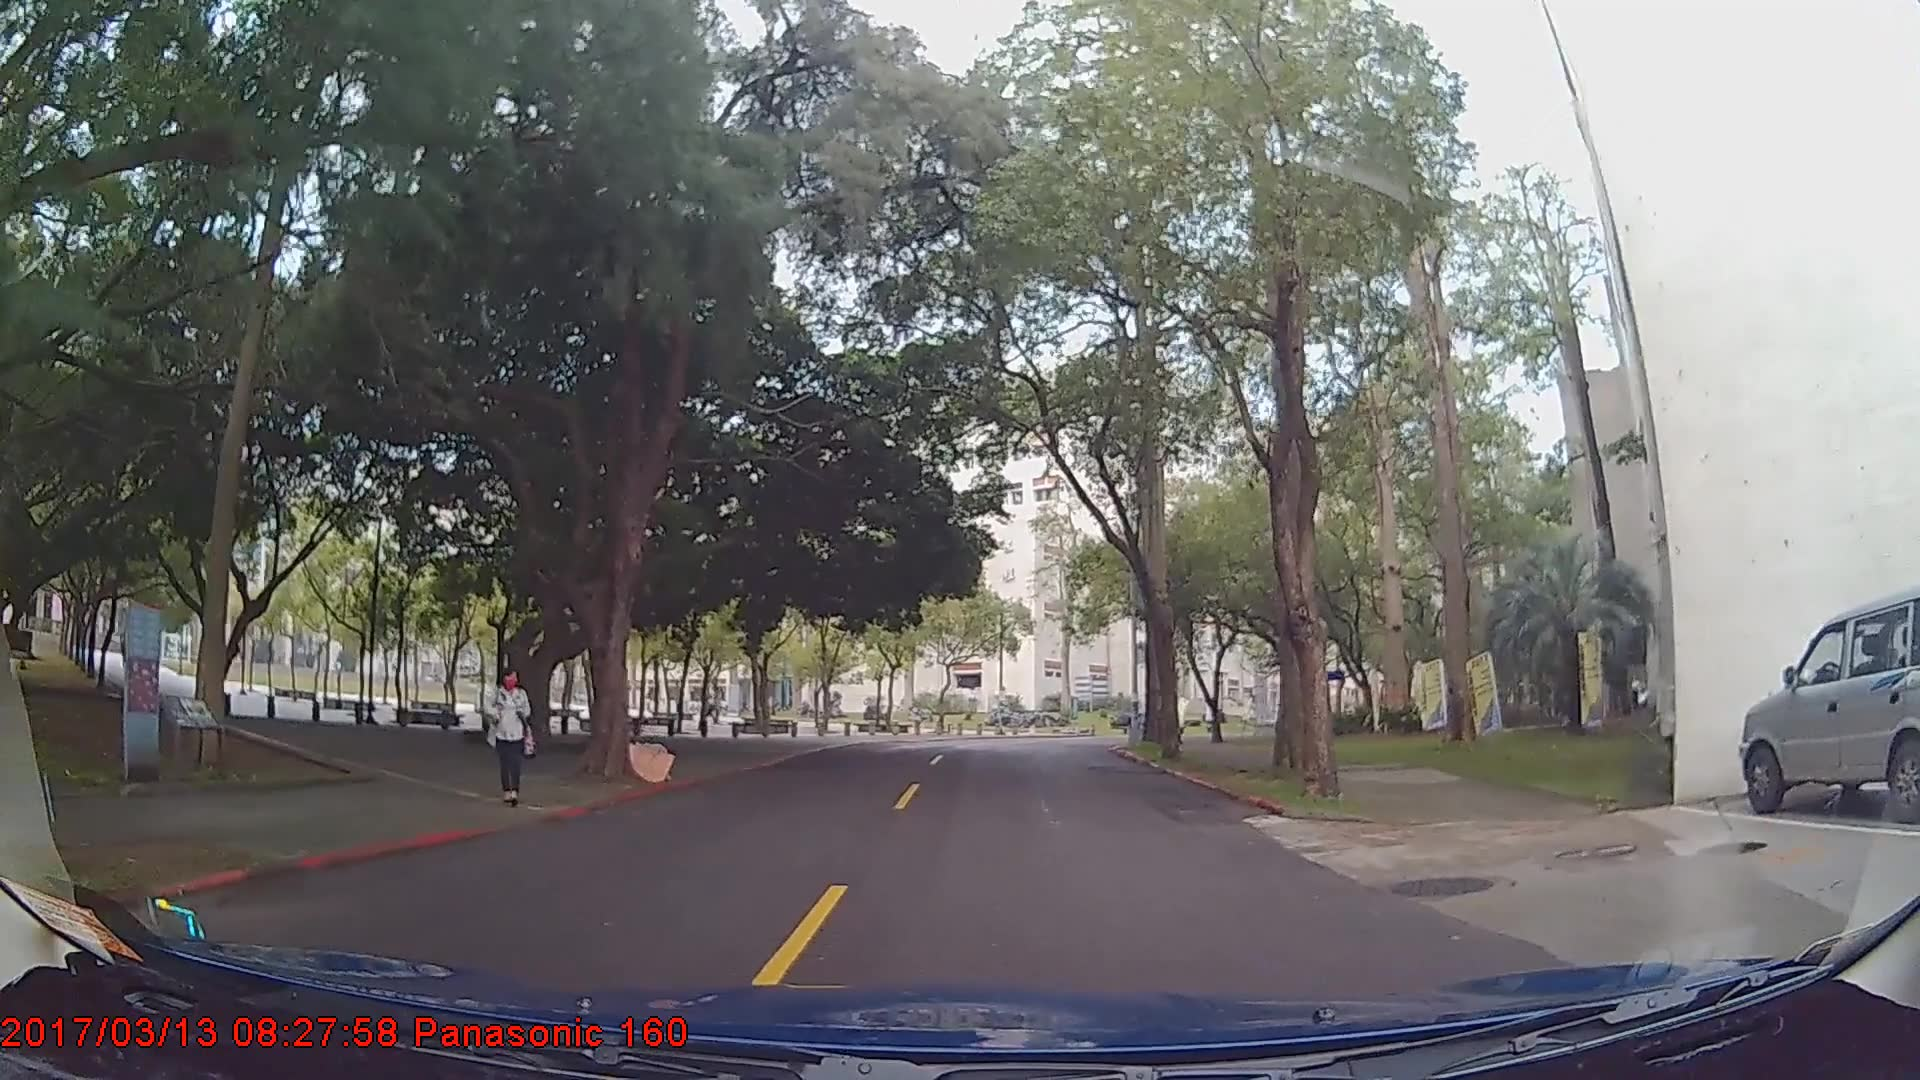pedestrian: (481, 663, 539, 804)
vehicle: (1740, 586, 1920, 819)
